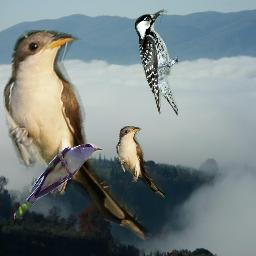Cuckoo: (3, 30, 152, 245), (14, 143, 102, 219), (116, 126, 167, 199)
Woodpecker: (134, 9, 178, 116)
